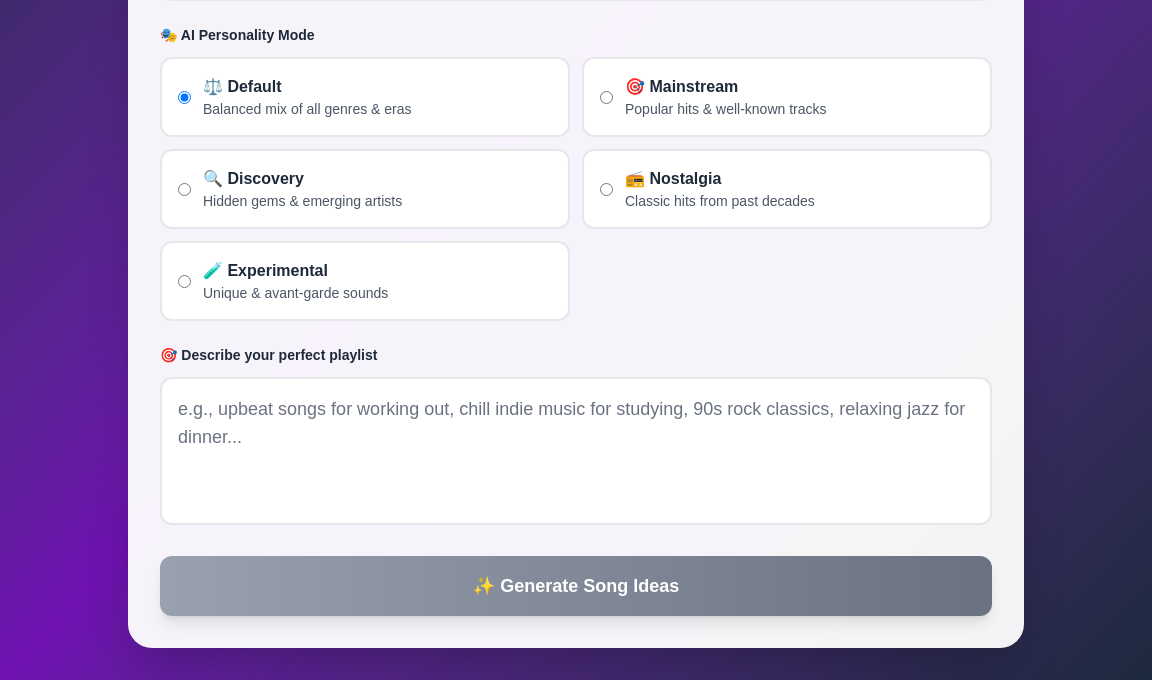
Home Component › Song Generation Flow › should create playlist after song generation
(page scrolled)
Replace the text in the text box labelled "🎯 Describe your perfect playlist" with "test music": x=576, y=451 [160,377,992,525]
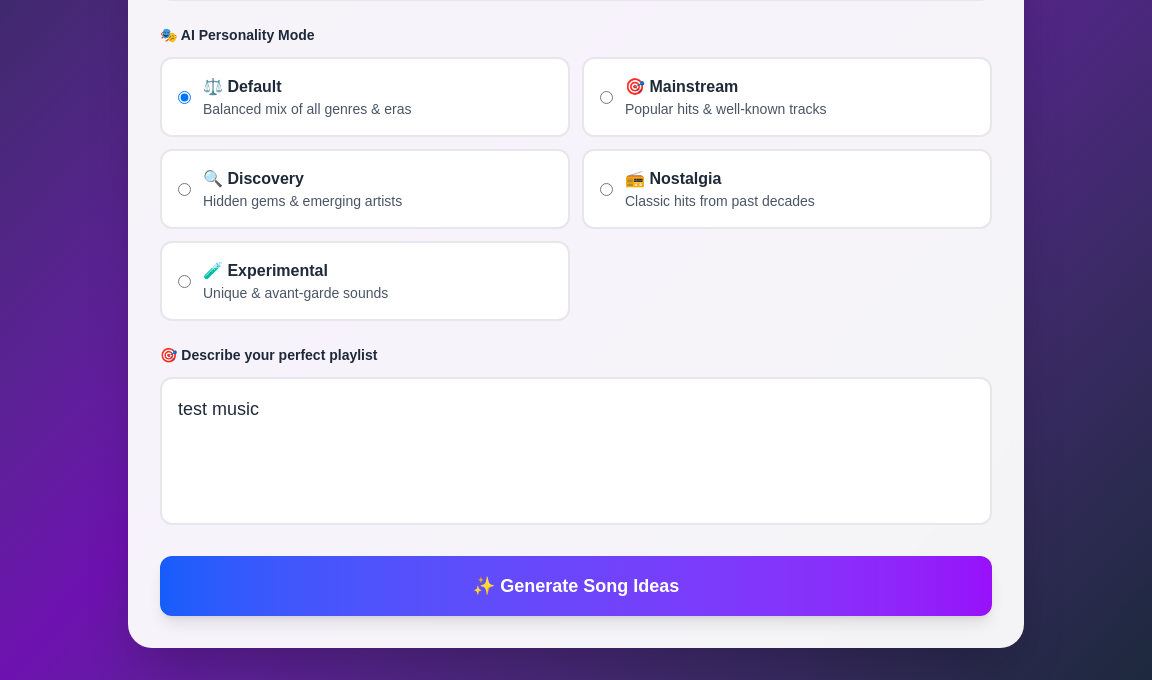
Click the button "✨ Generate Song Ideas": x=576, y=586 [160,556,992,616]
(page scrolled)
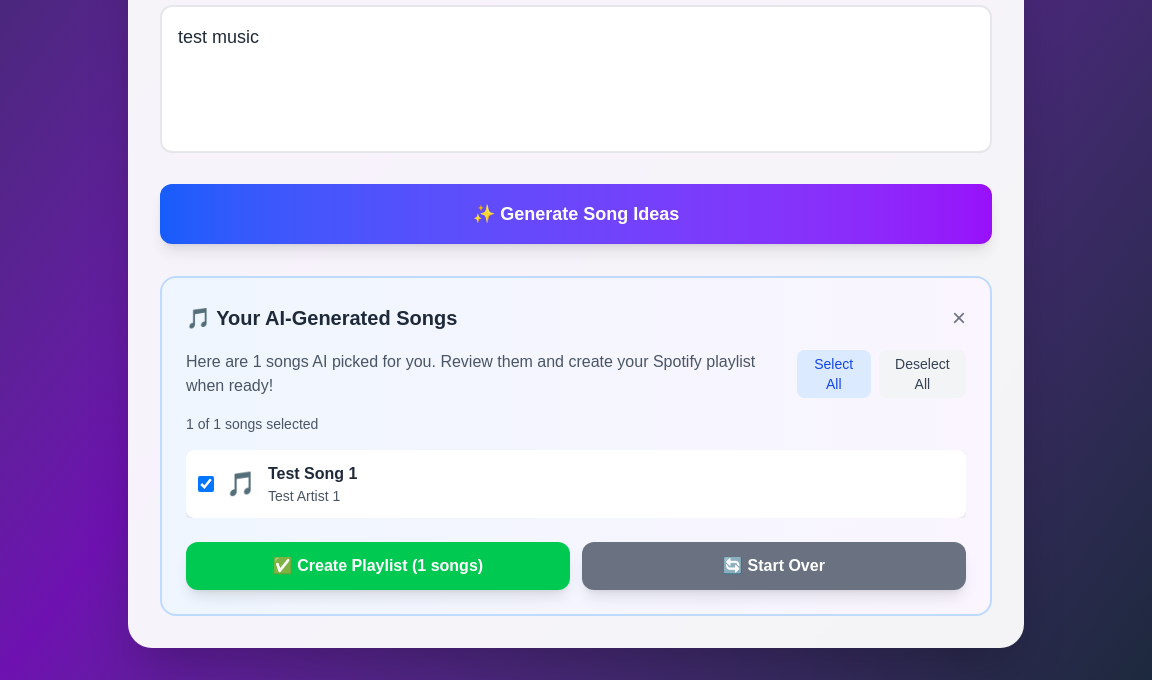
Expected: the button "✅ Create Playlist (1 songs)" is shown
Click the button "✅ Create Playlist (1 songs)": x=378, y=566 [186,542,570,590]
(page scrolled)
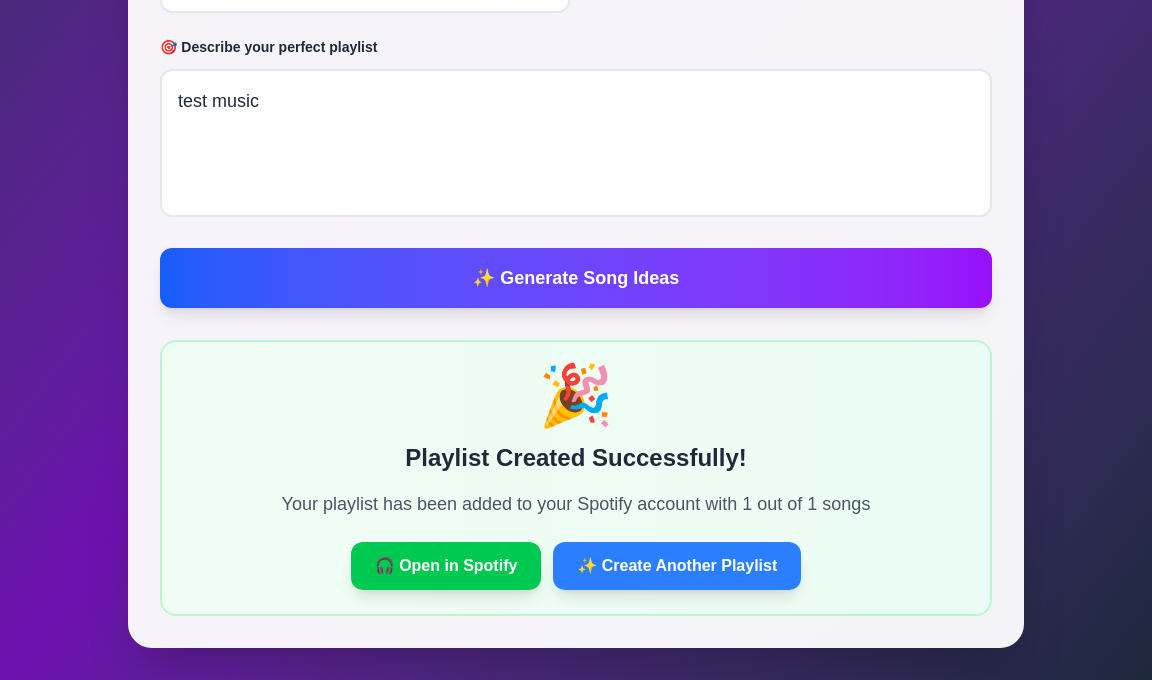
Expected: the heading "Playlist Created Successfully!" is shown, [405,444,747,471]
Expected: the link "🎧 Open in Spotify" is shown, [351,542,541,590]
